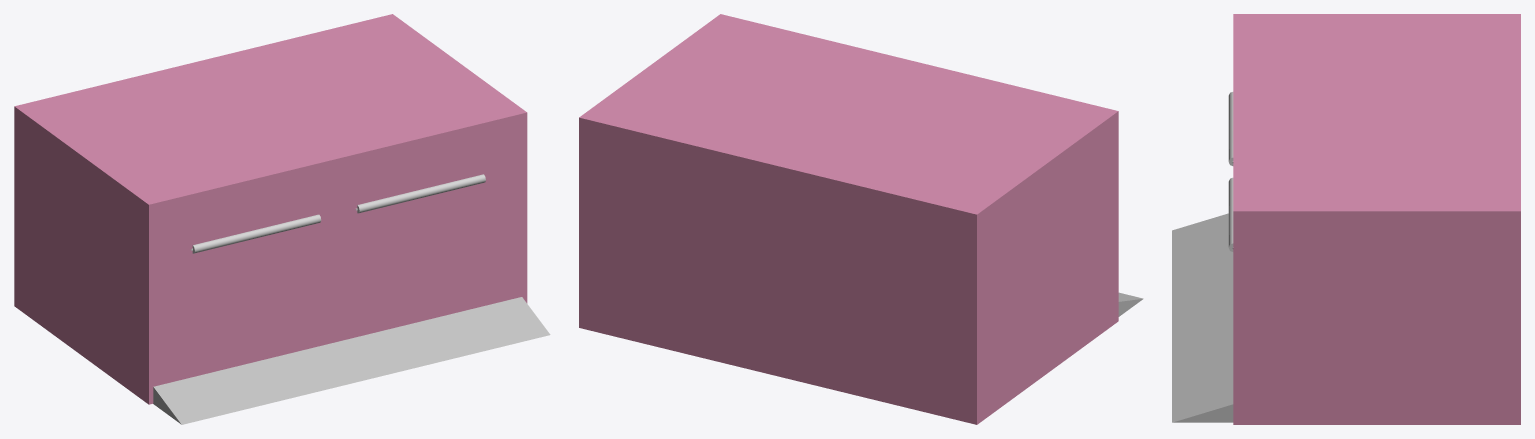
Rendered from ind_bld_tin_01_shed_b.dae.
3 renders of one model, left to right at view 1: azimuth 30°, elevation 25°; view 2: azimuth 150°, elevation 25°; view 3: azimuth 270°, elevation 25°, orthographic. The views are drawn at different scales.
Parts seen in each view (by area): view 1: Untitled, ind_bld_a650, ind_bld_a250; view 2: Untitled; view 3: Untitled, ind_bld_a650, ind_bld_a250.
Part boxes in pixels (x1,y1,x2,y2): Untitled: (14,14,527,404); ind_bld_a650: (153,180,550,424); ind_bld_a250: (193,174,485,253); Untitled: (579,14,1118,424); Untitled: (1233,14,1520,424); ind_bld_a650: (1172,157,1233,422); ind_bld_a250: (1228,92,1233,251).
Size of the model in its own units: 20.68 by 15.44 by 10.46.
